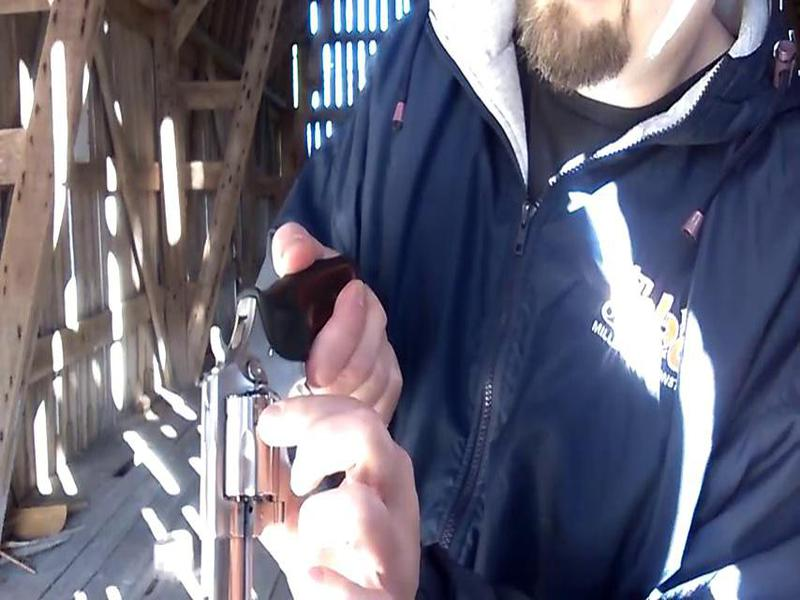Revolver: (167, 251, 419, 600)
